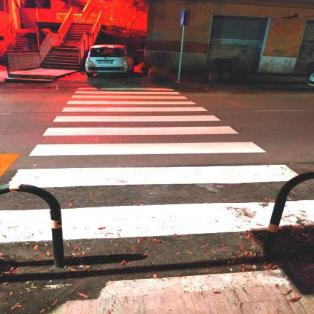Paso de Cebra: (25, 124, 274, 159), (58, 99, 212, 115), (72, 87, 183, 95)
